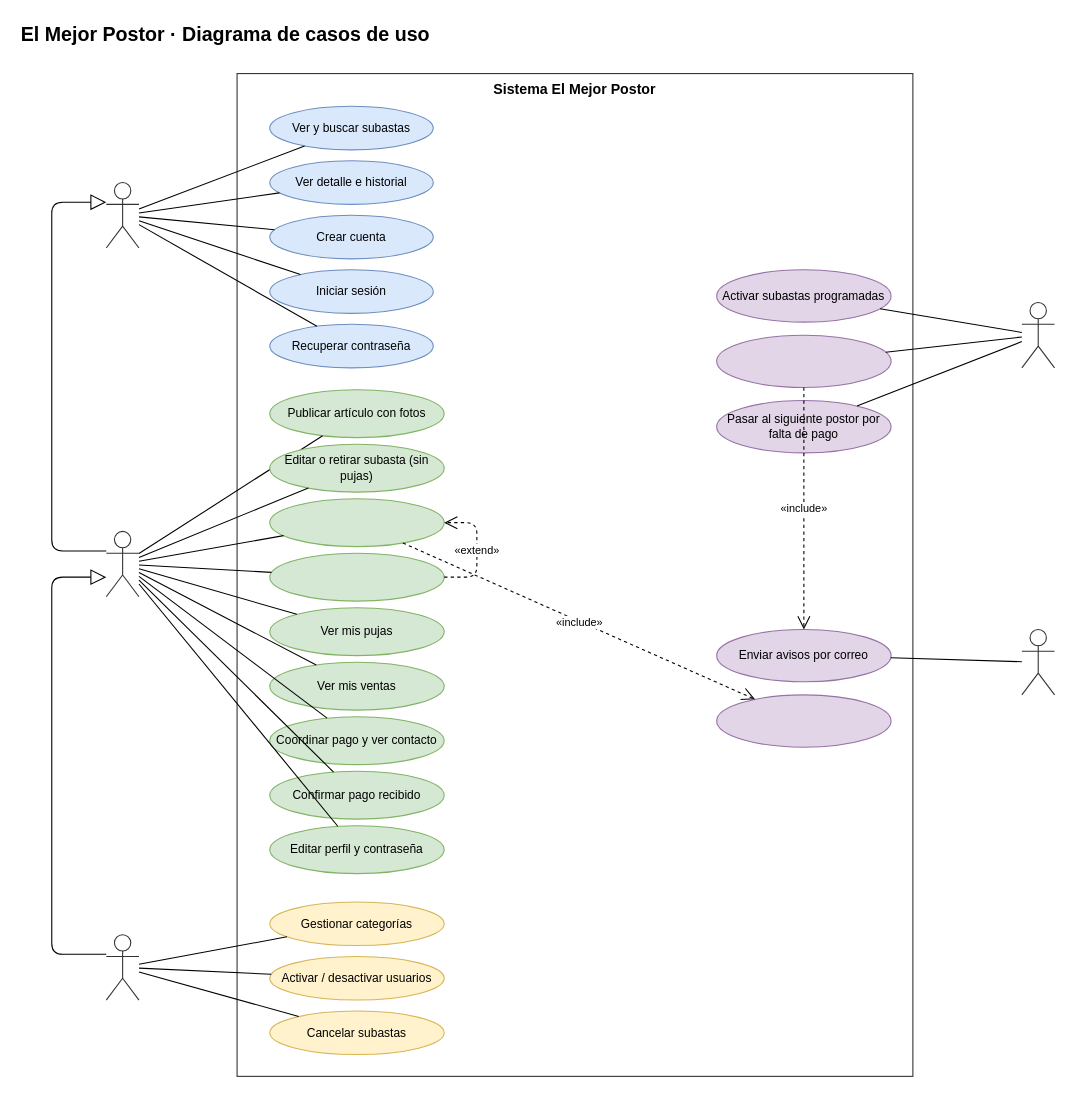
This 1081x1095 diagram has some shape labels left out. Here are the shapes that lost their labels. From the top down, the centre of each, then its label:
At (122,214): "Visitante".
At (1038,334): "Sistema (reloj cada 15 s)".
At (803,360): "Cerrar subastas vencidas".
At (356,522): "Pujar".
At (122,563): "Usuario registrado".
At (356,576): "Programar puja automática".
At (1038,661): "Servidor de correo (SMTP)".
At (803,720): "Notificar cambios en tiempo real".
At (122,967): "Administrador".
